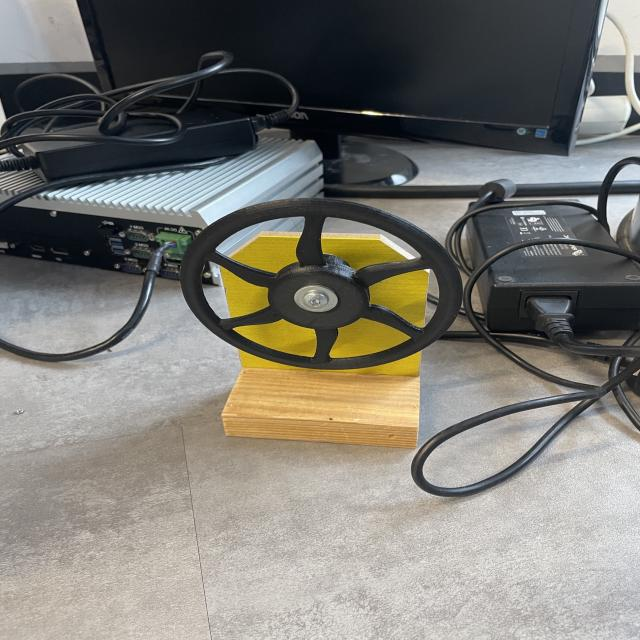Wheel Handle Valve Threaded: (179, 196, 465, 372)
